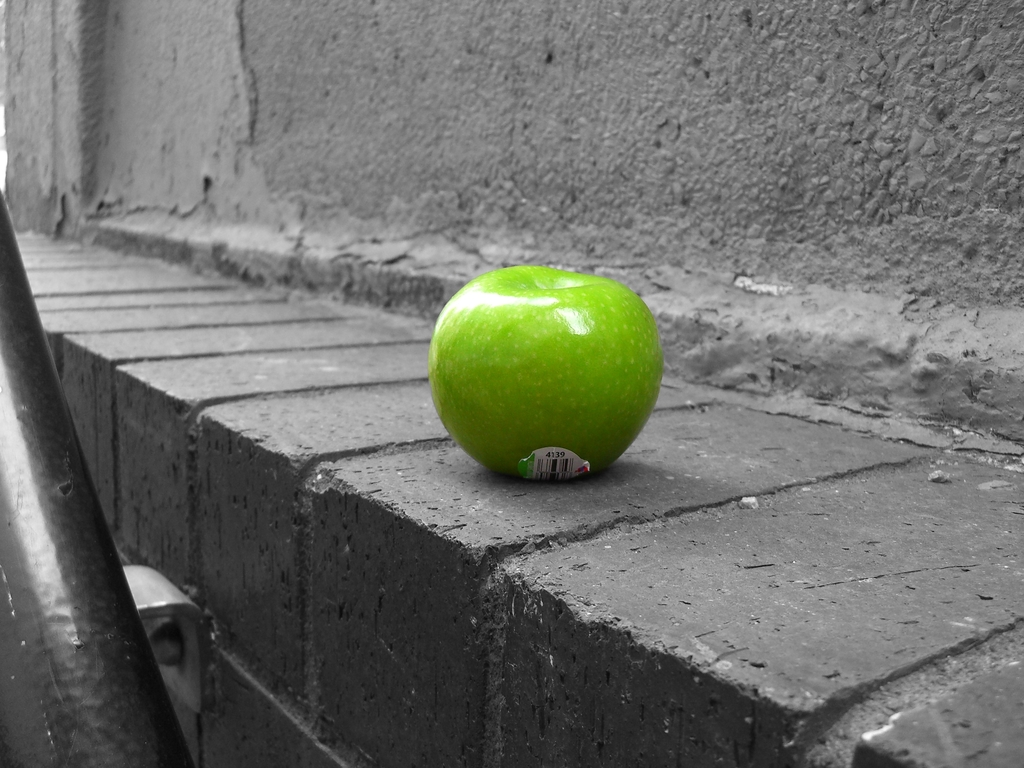Apple: (421, 262, 654, 478)
